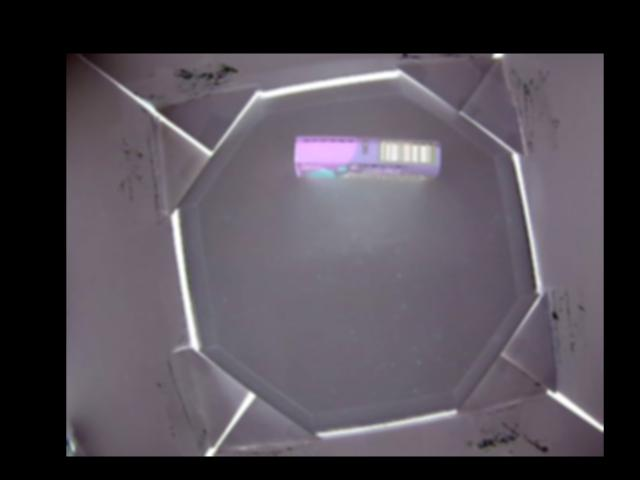Bottle: (291, 134, 440, 181)
